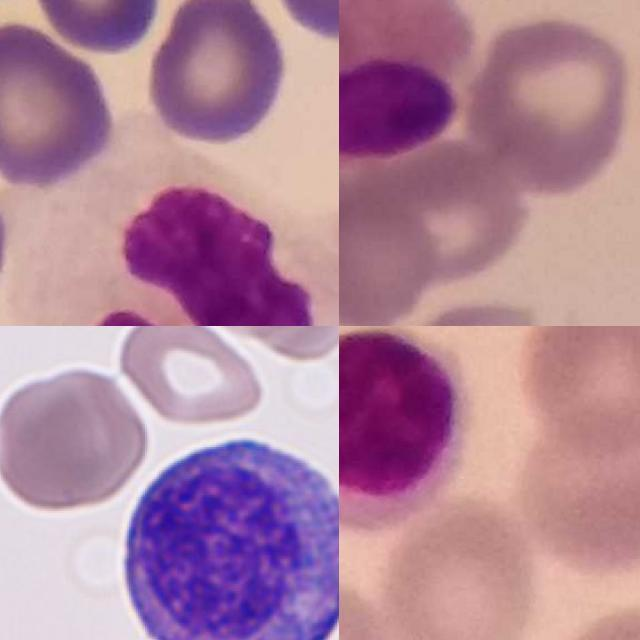Eosinophil: (339, 0, 471, 184)
Lymphocyte: (111, 424, 339, 640), (339, 326, 477, 532)
Monocyte: (23, 177, 339, 326)
RBC: (0, 358, 152, 516), (113, 326, 267, 431), (193, 326, 321, 340)
